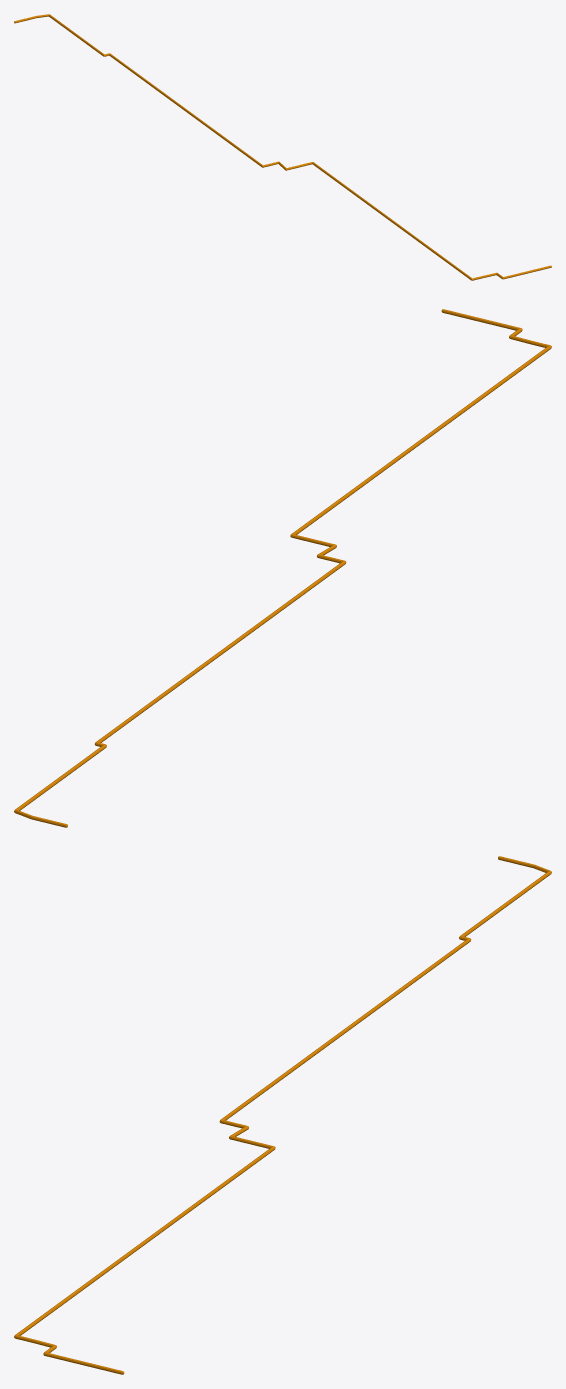
The picture shows the model from 3 angles, top to bottom: view 1: azimuth 30°, elevation 25°; view 2: azimuth 150°, elevation 25°; view 3: azimuth 330°, elevation 25°; orthographic projection. The views are drawn at different scales.
Size of the model in its own units: 1444 by 20 by 6291.
